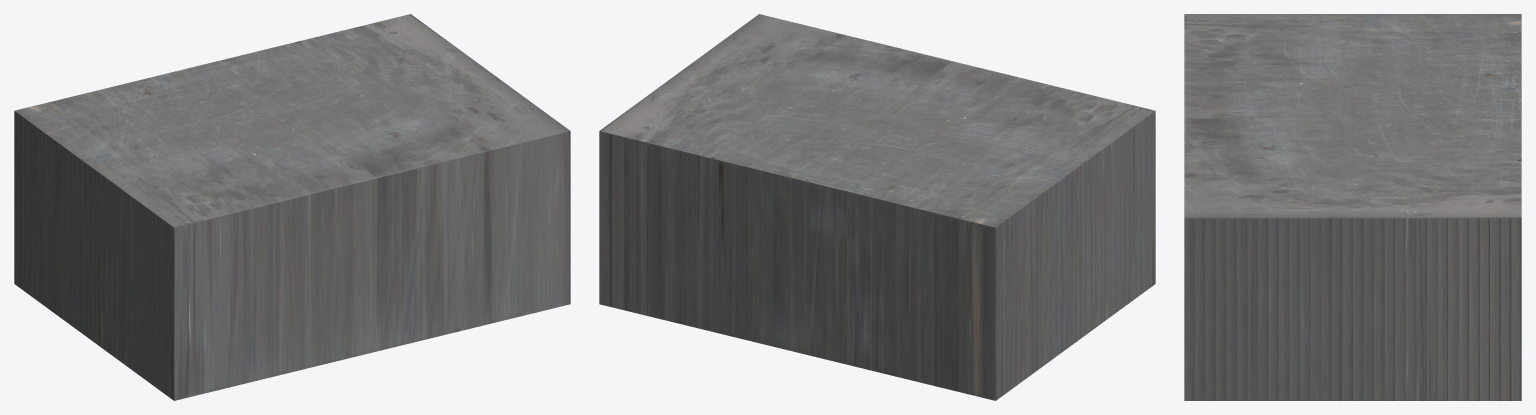
The model's file is grundflaeche3.obj.
3 views of the same model, side by side, from view 1: azimuth 30°, elevation 25°; view 2: azimuth 150°, elevation 25°; view 3: azimuth 270°, elevation 25° (orthographic). The views are drawn at different scales.
Bounding box in the file's own units: 16.64 × 6.94 × 11.62.
1 material, 1 textured.
